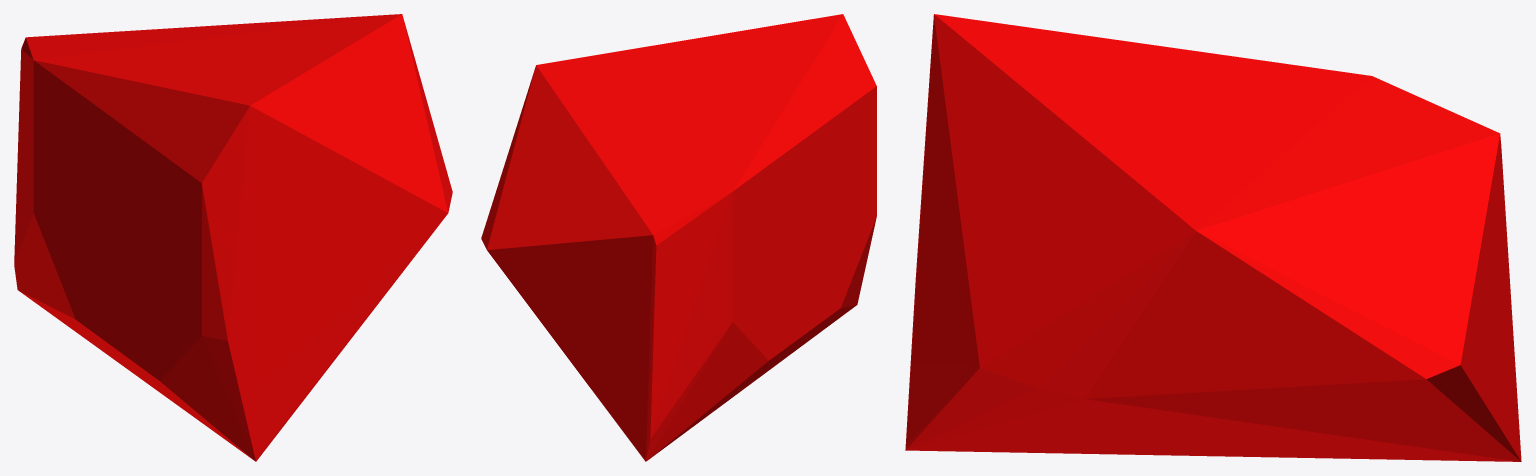
File: tip_006_2_convex_hull_08.obj
3 views of the same model, side by side, from view 1: azimuth 30°, elevation 25°; view 2: azimuth 150°, elevation 25°; view 3: azimuth 270°, elevation 25° (orthographic). The views are drawn at different scales.
Parts seen in each view (by area): view 1: tip_006_2_convex_hull_08; view 2: tip_006_2_convex_hull_08; view 3: tip_006_2_convex_hull_08.
Boxes of the visible parts, x1=… form: tip_006_2_convex_hull_08: x1=14, y1=14, x2=452, y2=461; tip_006_2_convex_hull_08: x1=481, y1=14, x2=876, y2=461; tip_006_2_convex_hull_08: x1=905, y1=14, x2=1521, y2=461.
Size of the model in its own units: 0.00124 by 0.00139 by 0.00173.
